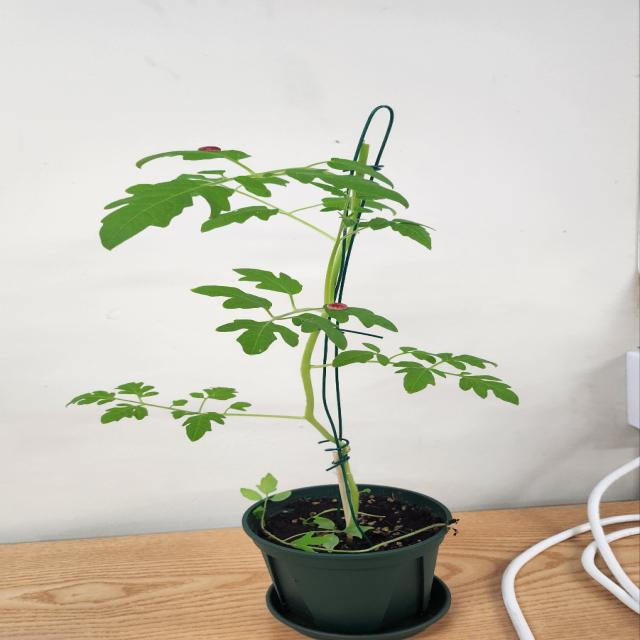bug: (320, 298, 373, 326), (186, 136, 230, 164)
